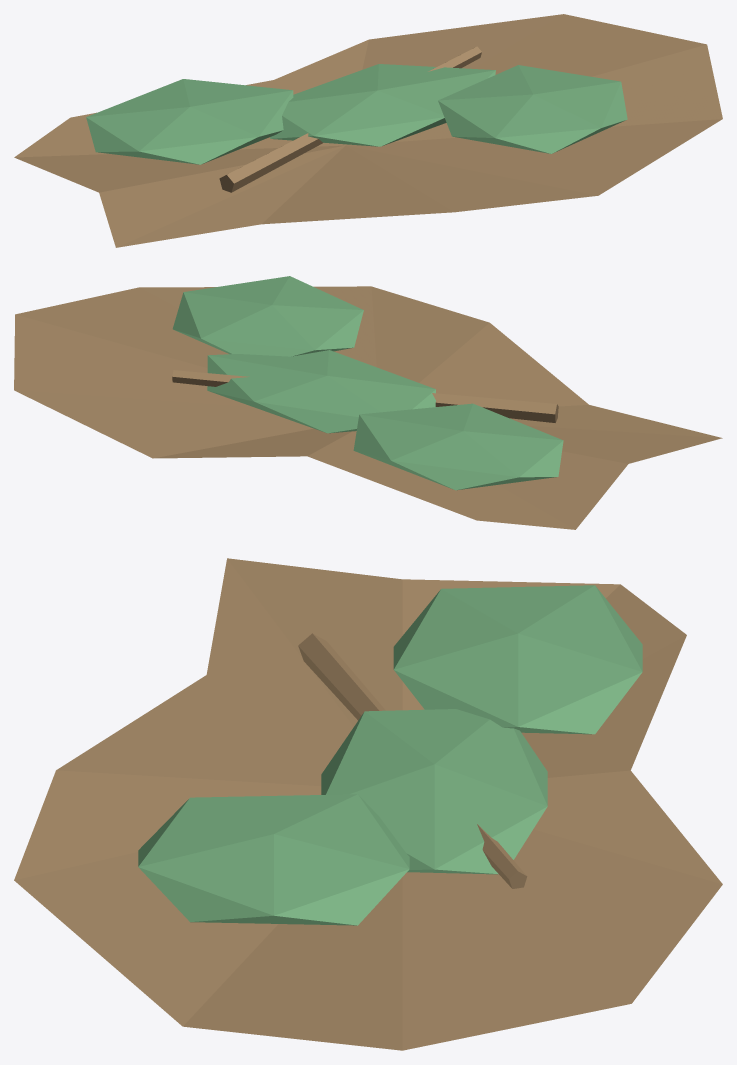
File: myb_forest_leaf_moss_mat_a.fbx
3 views of the same model, one above another, from view 1: azimuth 30°, elevation 25°; view 2: azimuth 150°, elevation 25°; view 3: azimuth 270°, elevation 25° (orthographic). The views are drawn at different scales.
Visible parts, largest first — view 1: myb_forest_leaf_moss_mat_a; view 2: myb_forest_leaf_moss_mat_a; view 3: myb_forest_leaf_moss_mat_a.
Part boxes in pixels (x1,y1,x2,y2): myb_forest_leaf_moss_mat_a: (14,14,722,247); myb_forest_leaf_moss_mat_a: (14,276,722,529); myb_forest_leaf_moss_mat_a: (14,558,722,1050).
Size of the model in its own units: 1.84 by 0.122 by 1.1.
